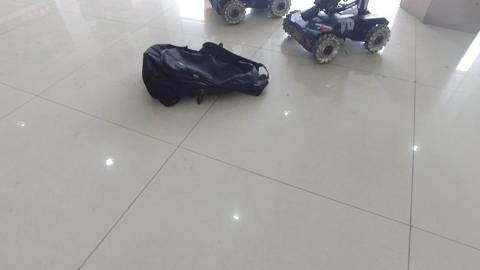bag: (141, 43, 270, 106)
chariot: (285, 1, 391, 60)
